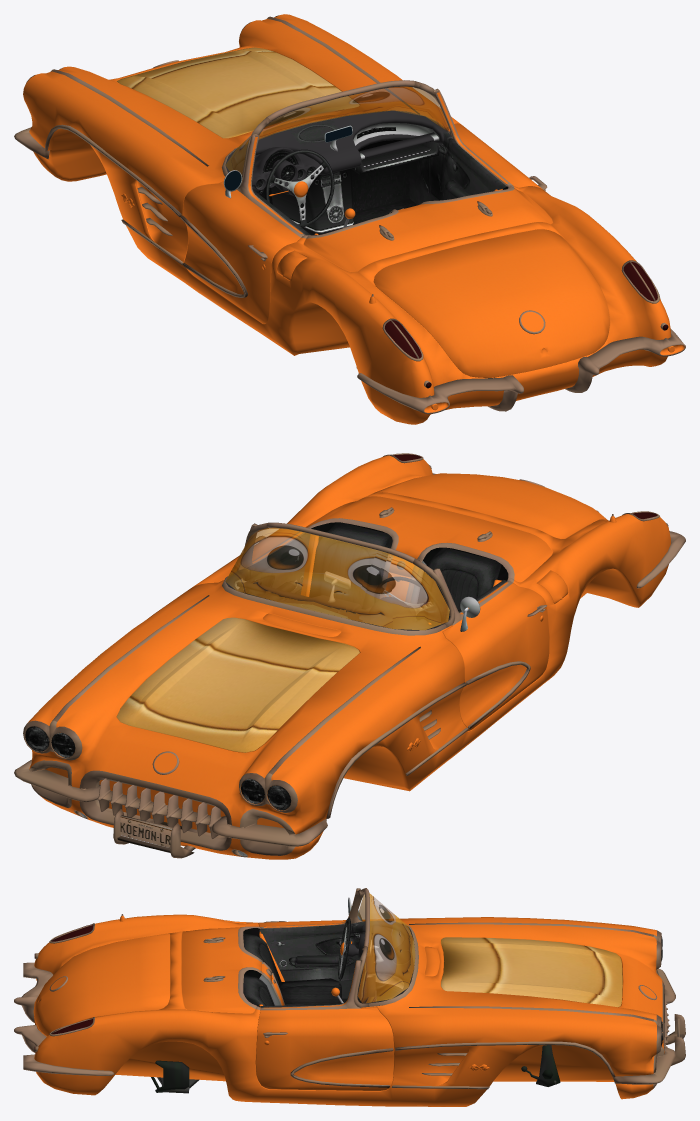
The model's file is carroPRUEBA.obj.
The picture shows the model from 3 angles, top to bottom: view 1: azimuth 30°, elevation 25°; view 2: azimuth 150°, elevation 25°; view 3: azimuth 270°, elevation 25°; orthographic projection. The views are drawn at different scales.
Parts seen in each view (by area): view 1: Object_7_nodamage.001, Object_4_interior, Object_2_chrome, cofre_nodamage, Object_3_glass, Object_5_lights; view 2: Object_7_nodamage.001, Object_2_chrome, cofre_nodamage, Object_4_interior, Object_3_glass, Object_5_lights, placa_chrome; view 3: Object_7_nodamage.001, Object_4_interior, Object_2_chrome, cofre_nodamage, Object_3_glass, Object_9_undercarriage, Object_5_lights.
Boxes of the visible parts, box(x1,y1,x2,y2) form: Object_7_nodamage.001: box(23, 14, 684, 424); Object_4_interior: box(223, 110, 508, 235); Object_2_chrome: box(14, 15, 685, 414); cofre_nodamage: box(117, 47, 359, 138); Object_3_glass: box(225, 86, 448, 174); Object_5_lights: box(385, 262, 668, 388); Object_7_nodamage.001: box(27, 455, 670, 859); Object_2_chrome: box(14, 453, 685, 858); cofre_nodamage: box(116, 617, 359, 752); Object_4_interior: box(225, 522, 508, 631); Object_3_glass: box(225, 527, 449, 630); Object_5_lights: box(25, 454, 668, 856); placa_chrome: box(117, 815, 172, 852); Object_7_nodamage.001: box(33, 890, 664, 1106); Object_4_interior: box(243, 897, 415, 1007); Object_2_chrome: box(14, 888, 685, 1089); cofre_nodamage: box(441, 937, 622, 1007); Object_3_glass: box(357, 893, 415, 1003); Object_9_undercarriage: box(151, 1045, 560, 1093); Object_5_lights: box(34, 924, 662, 1051).
Bounding box in the file's own units: 105 × 63.38 × 256.
